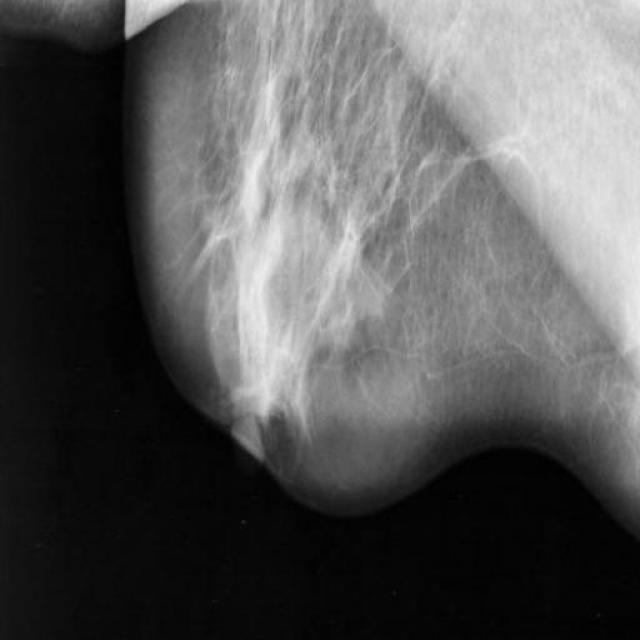cancer: (322, 295, 382, 401)
